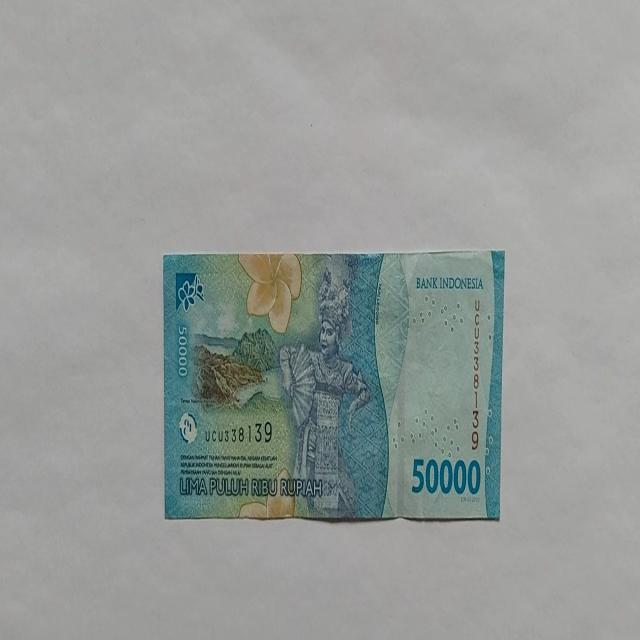lima puluh ribu rupiah: (162, 250, 504, 522), (278, 264, 372, 518)
